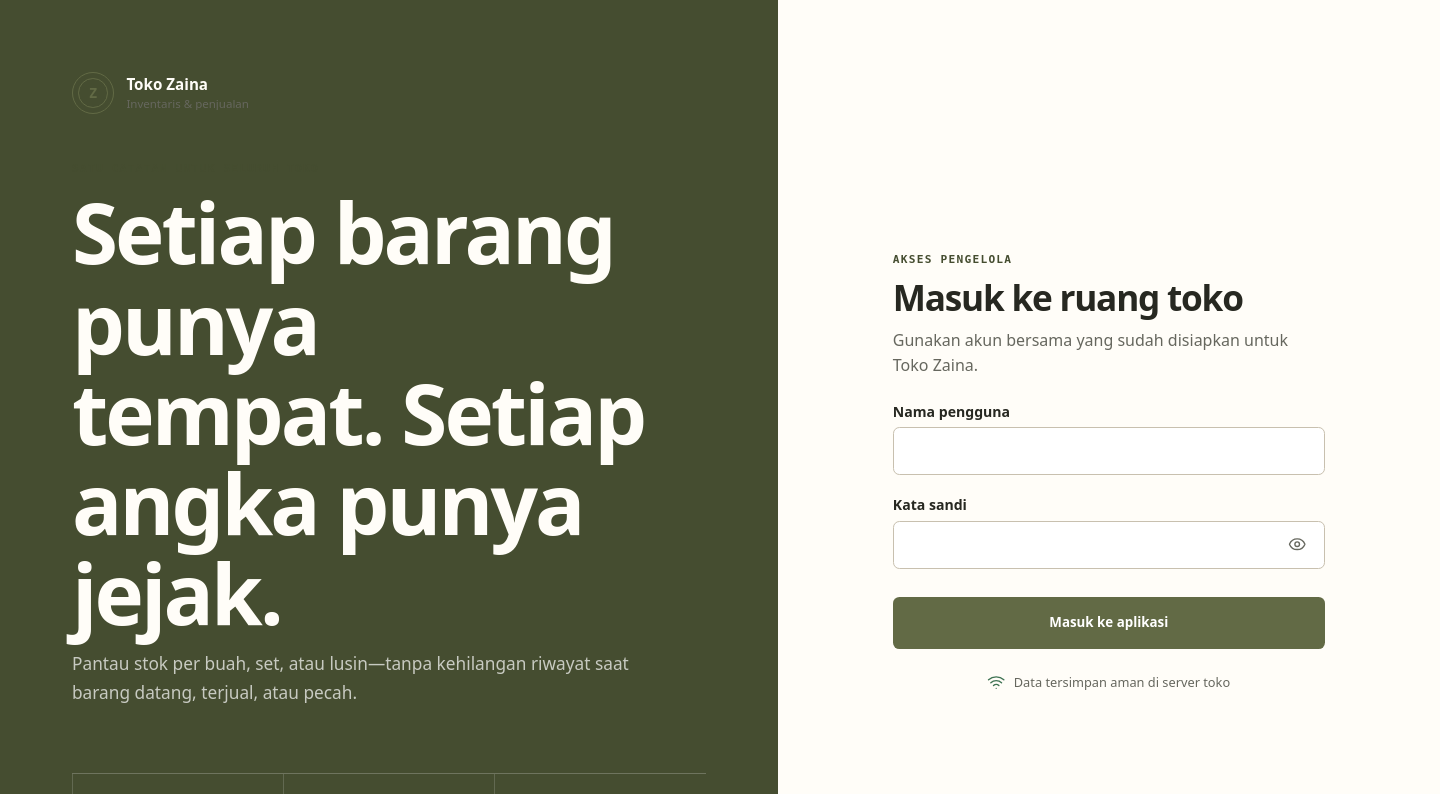
Scenario: LoginPage › keeps the submitted username when authentication fails
Type "toko" into the field labelled "Nama pengguna".
click(1109, 451); type("toko")  # box [893, 427, 1325, 475]
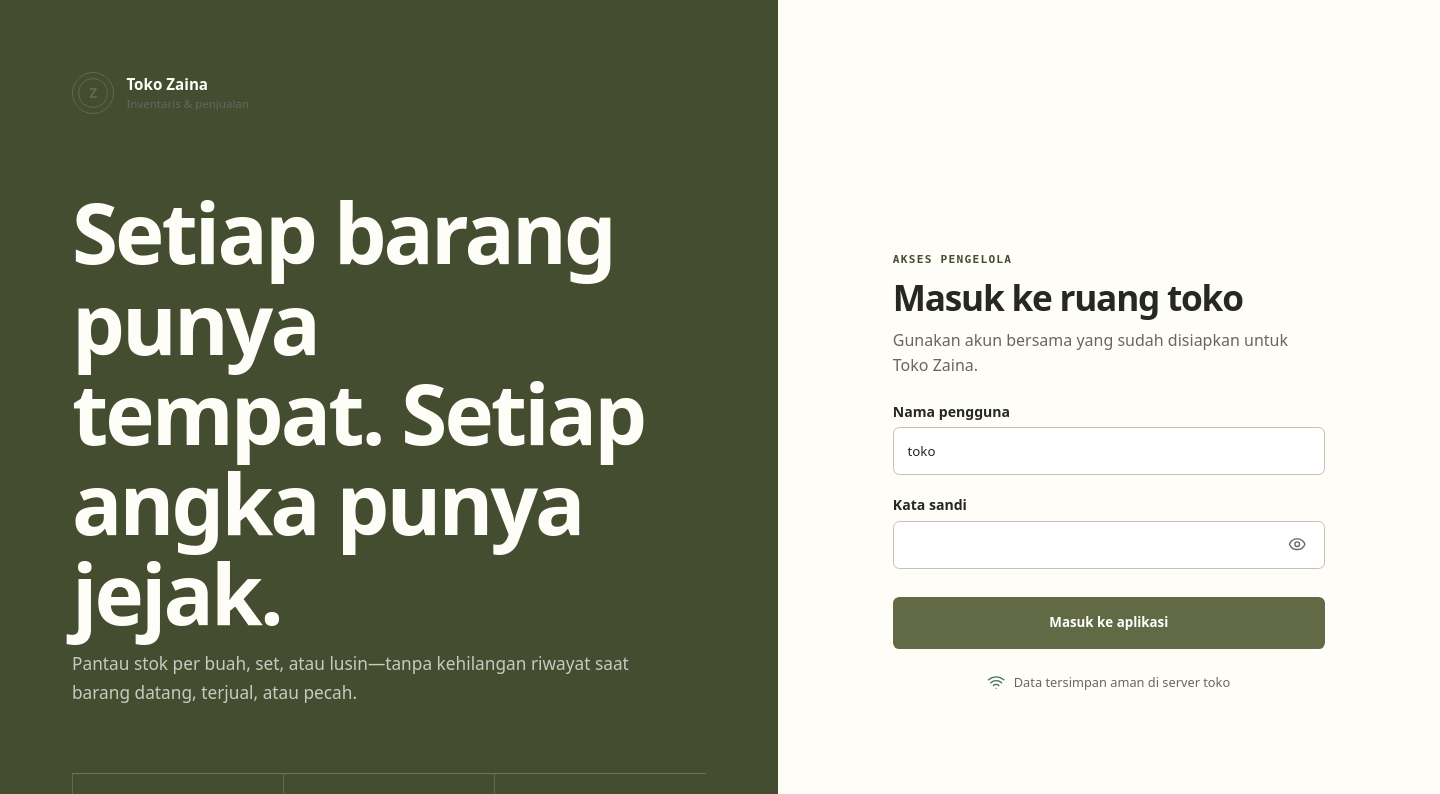
Type "kata-sandi-salah" into the password field labelled "Kata sandi".
click(1109, 545); type("kata-sandi-salah")  # box [893, 521, 1325, 569]
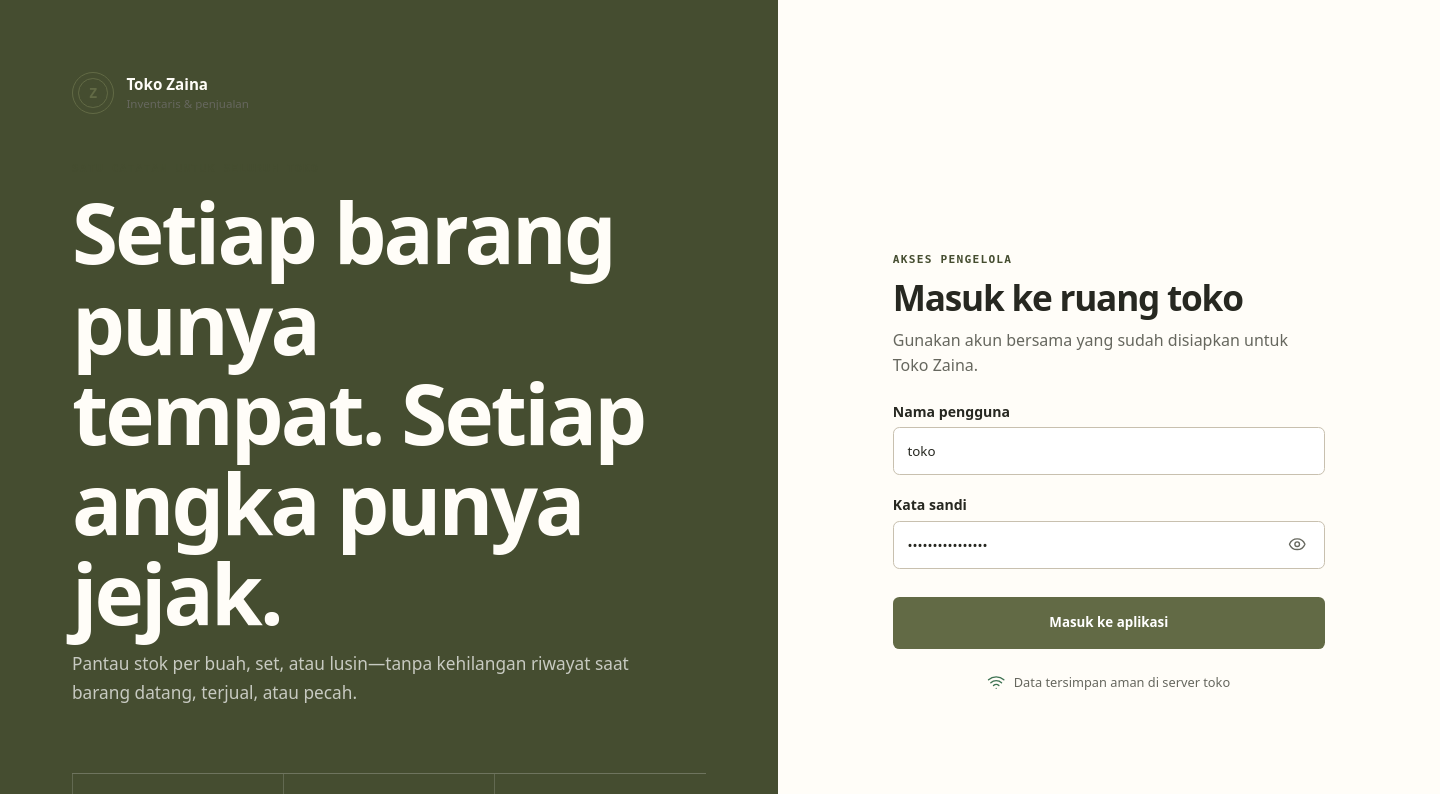
Click the button "Masuk ke aplikasi".
click(1109, 623)  # box [893, 597, 1325, 649]
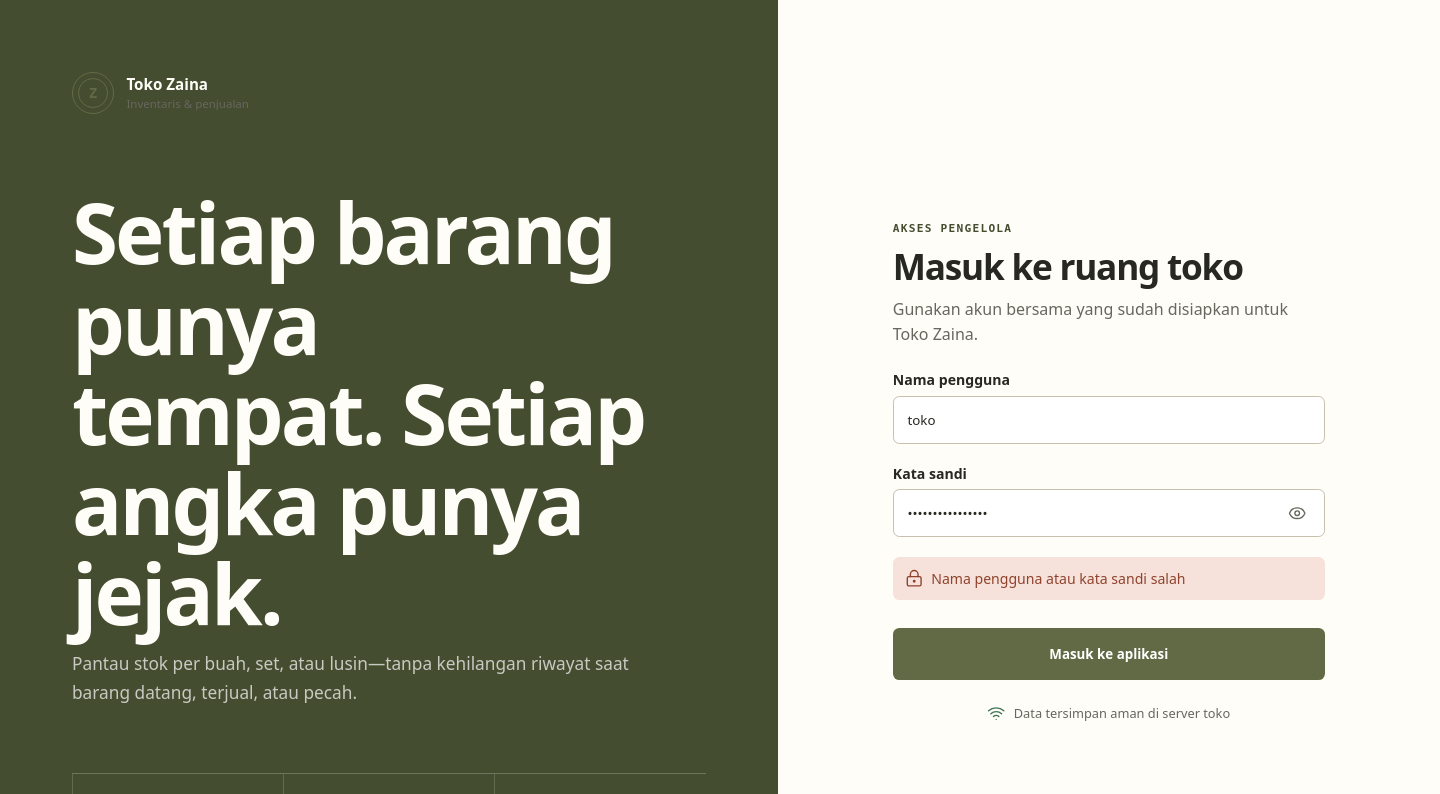
Expected: the message reads "Nama pengguna atau kata sandi salah", [931, 569, 1186, 588]
